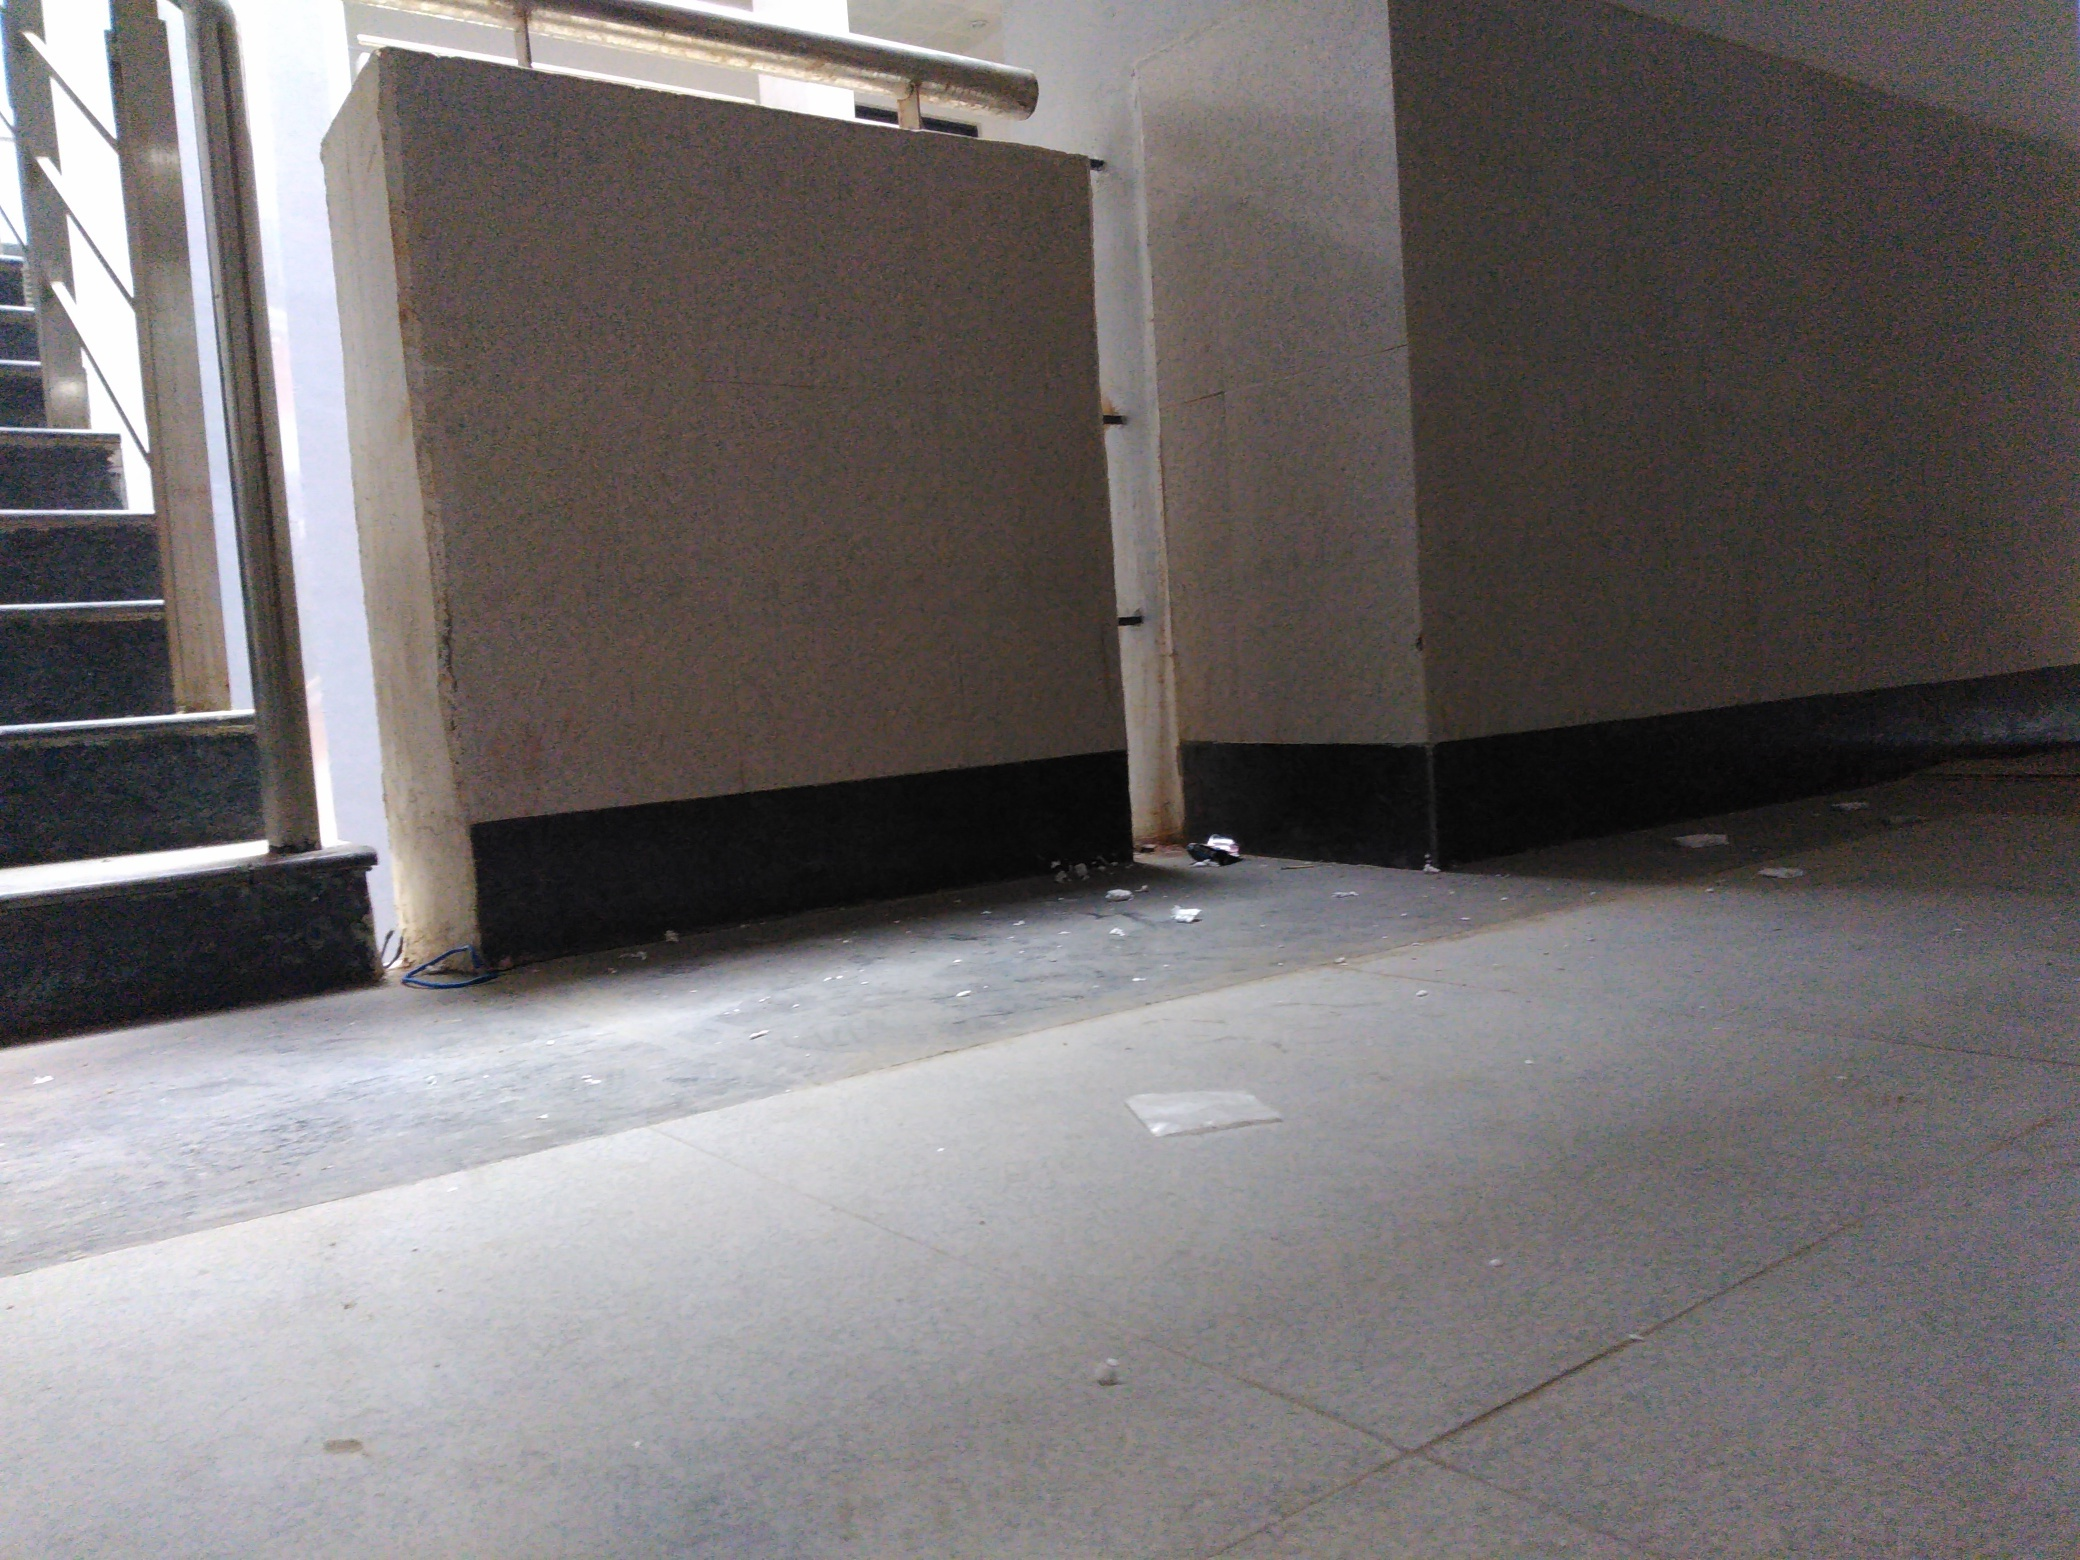stairs_up: (2, 290, 365, 1039)
